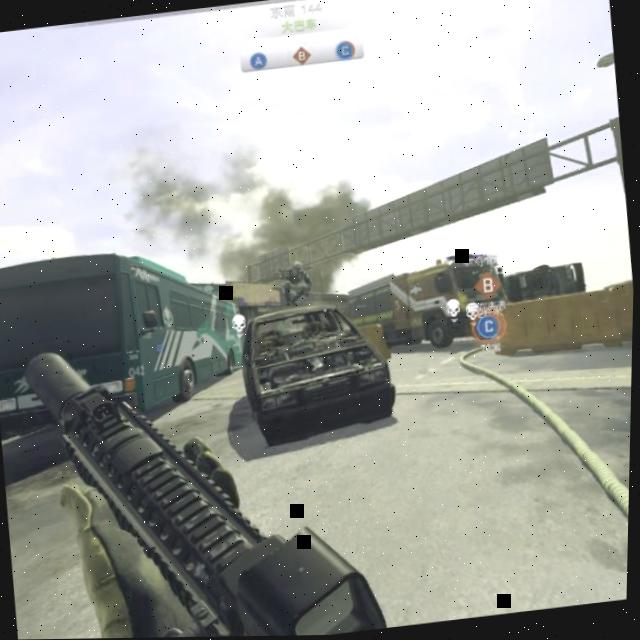MW2_body: (281, 260, 315, 307)
